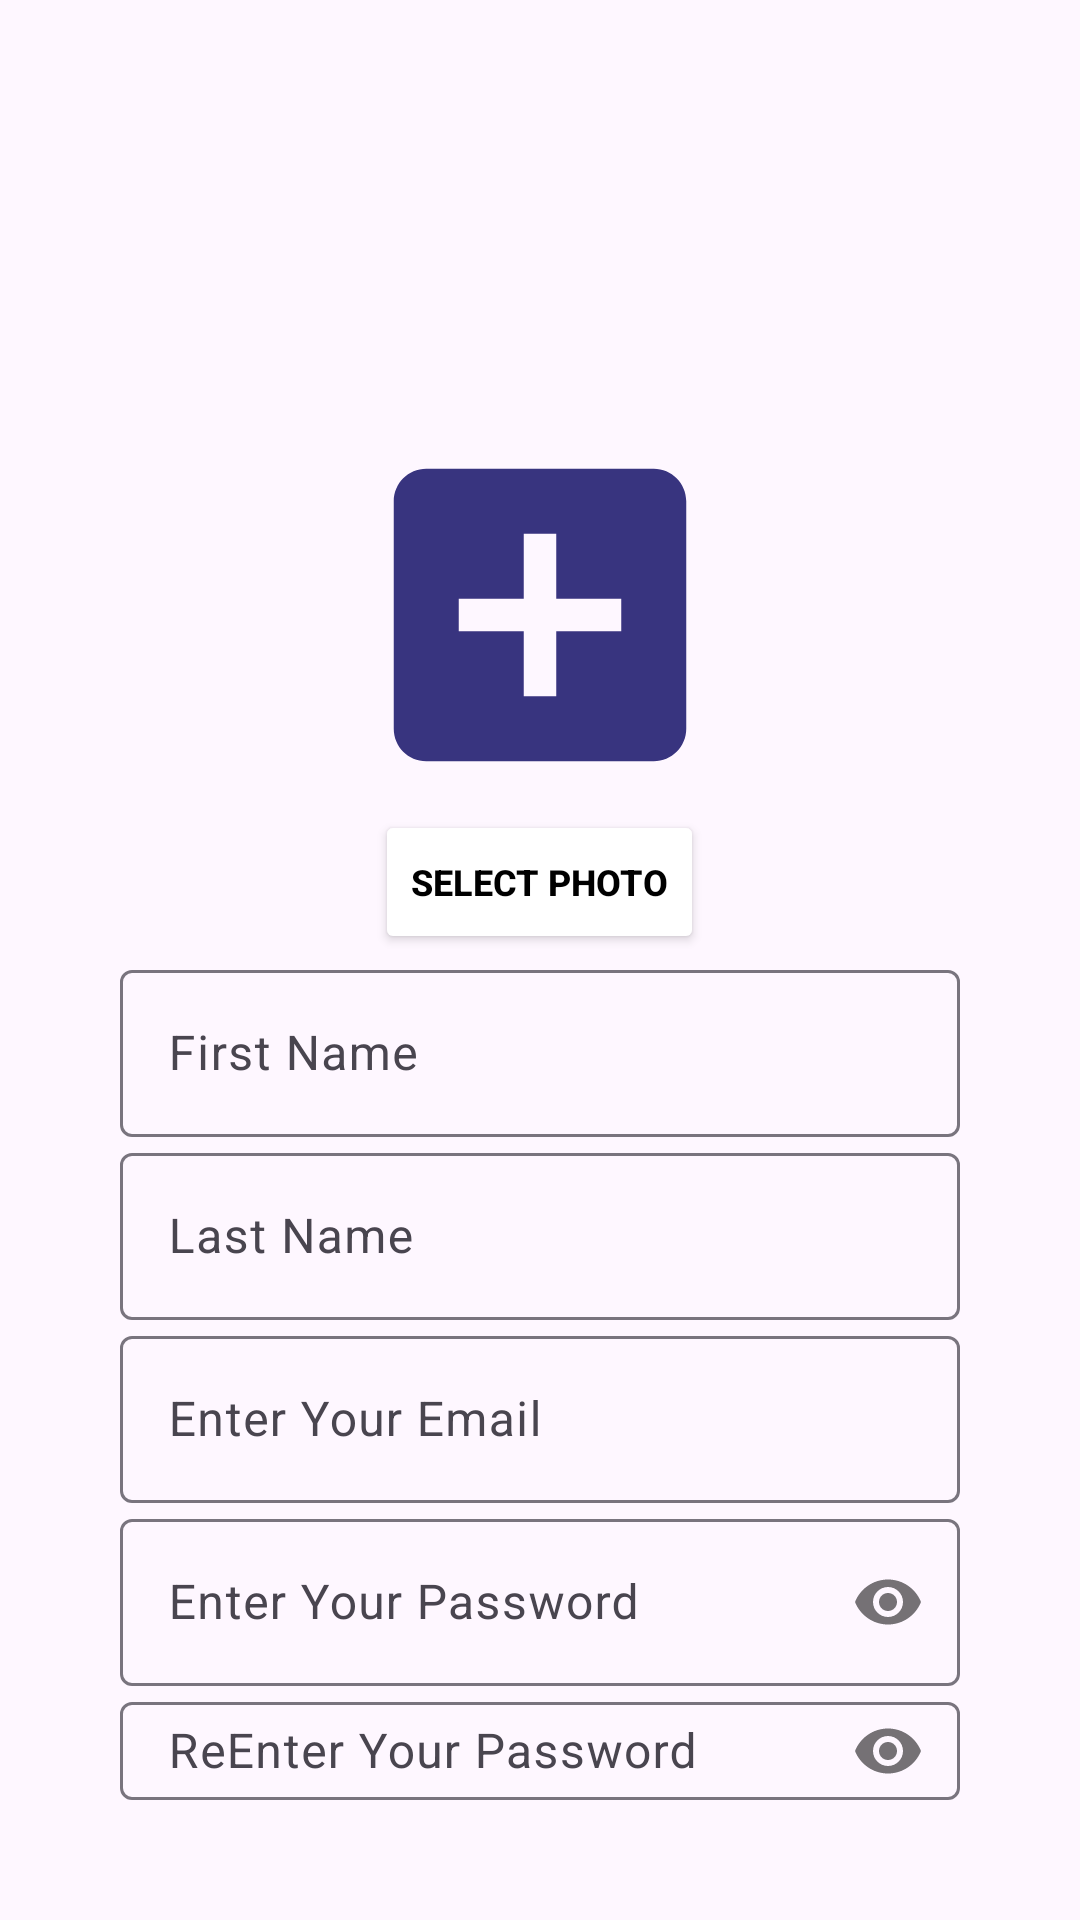

Named icons in this screenshot (1080x1920) and their centers, (x,y):
add box: (540,615)
